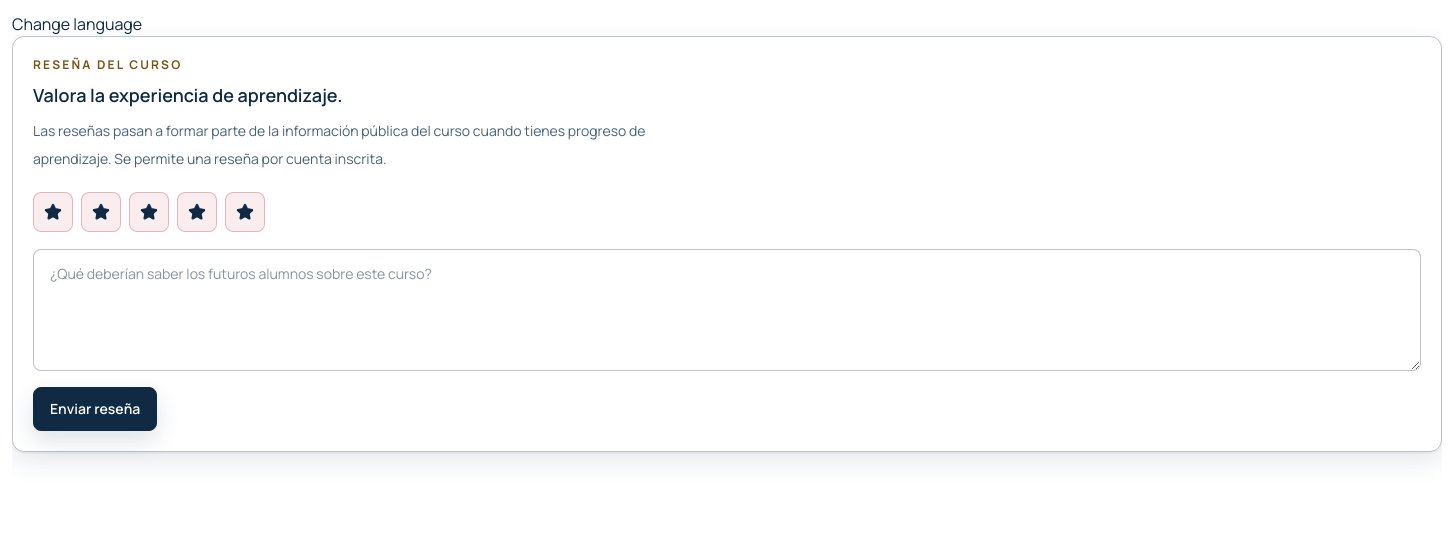
Scenario: CourseReviewPanel locale and state › localizes a rejected submission without losing its cause or exposing internals: Complete at least 50% of the course before leaving a review.
The width and height of the screenshot is (1452, 533).
Type "Draft $$ $&" into the text box at x=727, y=310, box [33,249,1421,371]
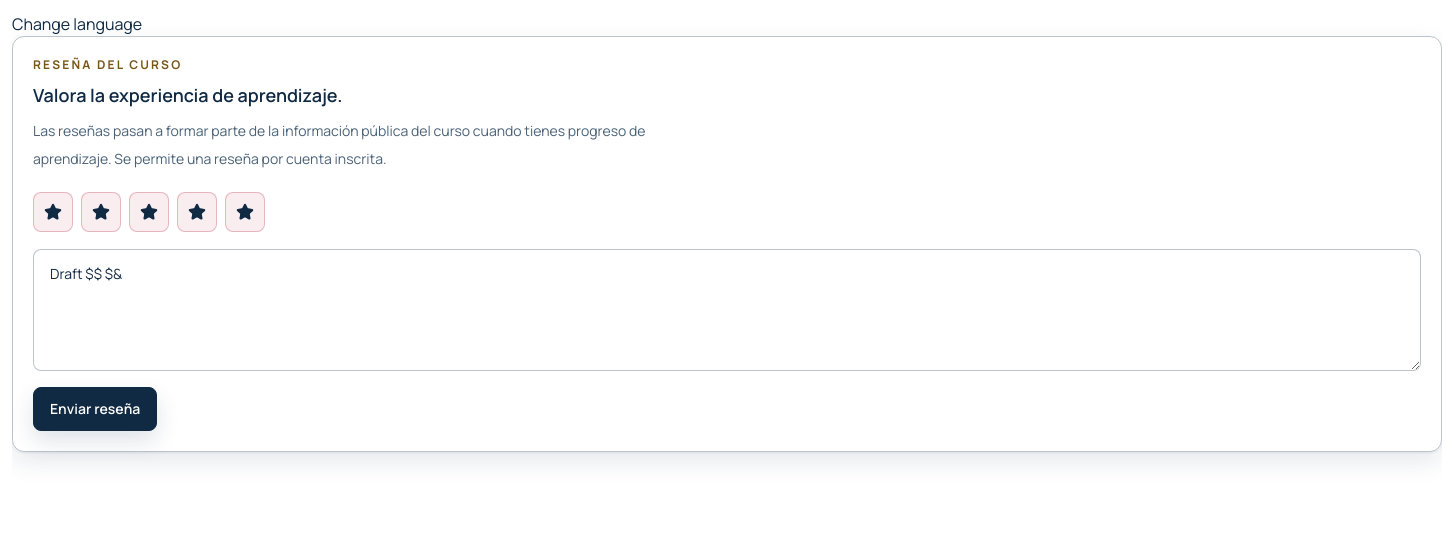
Click the button "Enviar reseña" at x=95, y=409, box [33,387,157,431]
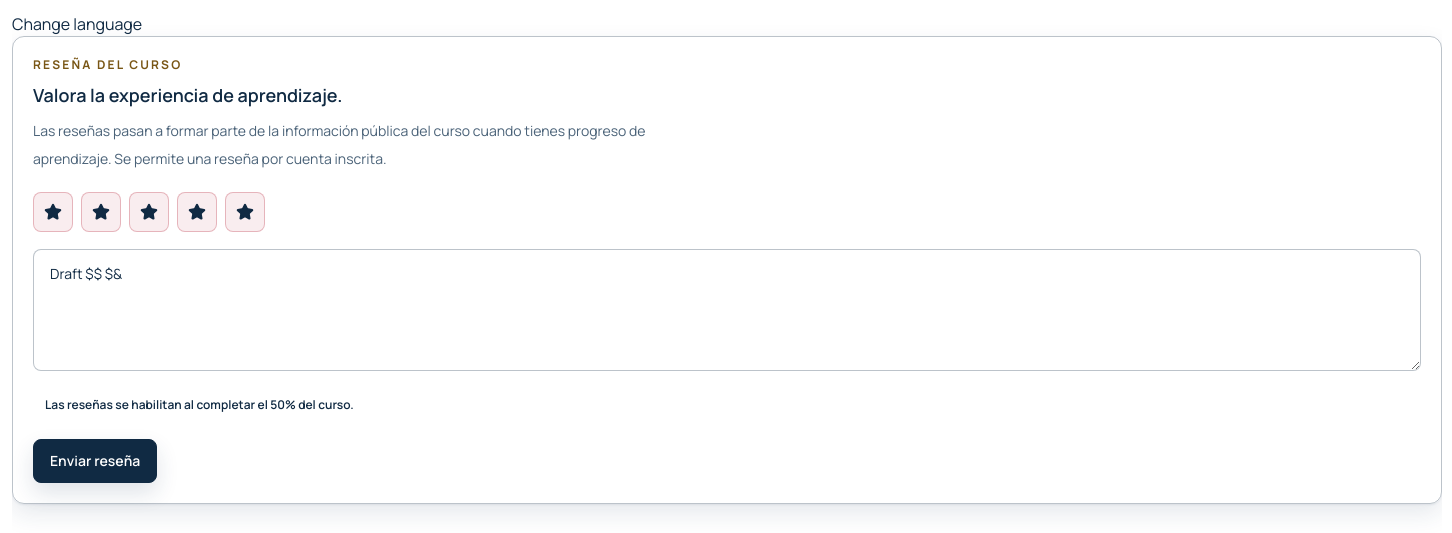
Expected: the text "Las reseñas se habilitan al completar el 50% del curso." is shown, [33,387,1421,423]
